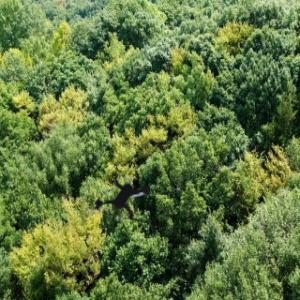drone: (68, 146, 181, 259)
